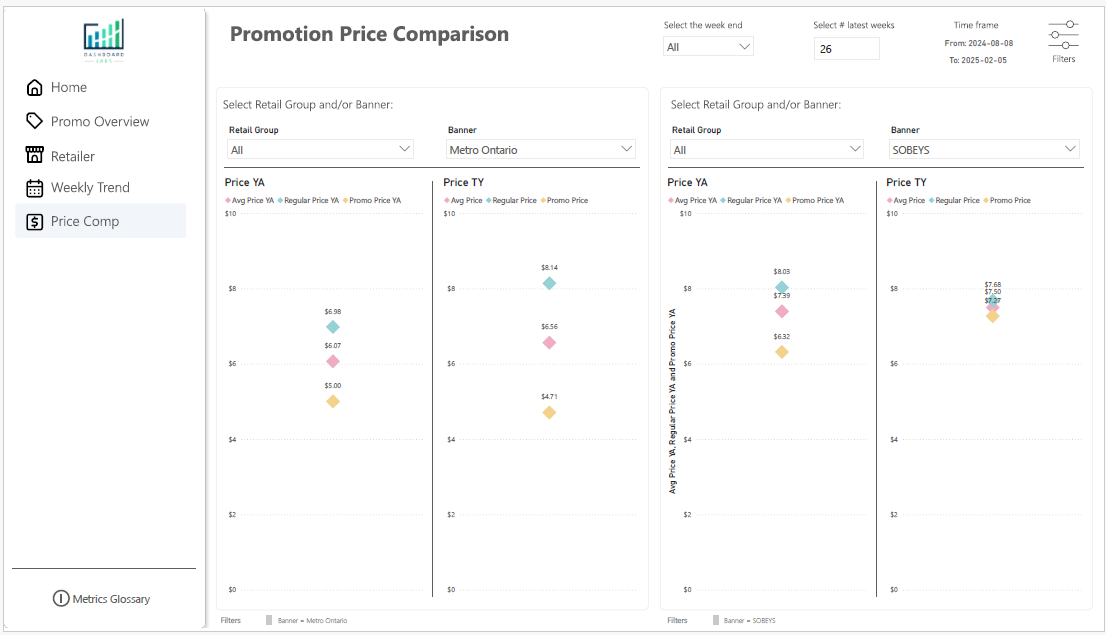

This screenshot's page, from the dashboard's own definition file:
{"tool":"powerbi","page":{"name":"Price Comp","canvas":[1920,1080],"ordinal":4},"visuals":[{"type":"slicer","fields":{"Values":["Parameter_Weeks.Parameter_Weeks"]},"box":[1401.4,37.1,175.7,58.6],"z":0},{"type":"slicer","fields":{"Values":["dCalendar.week_end_date"]},"box":[1141.4,35.7,177.1,60],"z":1000},{"type":"multiRowCard","fields":{"Values":["_Measures.From Date"]},"box":[1637.2,44.6,133.6,33.6],"z":2000},{"type":"multiRowCard","fields":{"Values":["_Measures.To Date"]},"box":[1644.9,74.4,118.4,34.2],"z":3000},{"type":"actionButton","box":[1811.2,15,75,85],"z":4000},{"type":"lineChart","title":"Price TY","fields":{"Y":["_Measures.P Dynamic Avg Price","_Measures.P Dynamic Non-promo Avg Price","_Measures.P Dynamic Promo Avg Price"]},"box":[761.7,290,350,736.7],"z":5000},{"type":"lineChart","title":"Price YA","fields":{"Y":["_Measures.P Dynamic Avg Price YA","_Measures.P Dynamic Non-promo Avg Price YA","_Measures.P Dynamic Promo Avg Price YA"]},"box":[380,290,358.3,736.7],"z":6000},{"type":"slicer","fields":{"Values":["dStores.banner"]},"box":[761.7,195,350,65],"z":7000},{"type":"slicer","fields":{"Values":["dStores.retail_group"]},"box":[380,195,345,65],"z":8000},{"type":"lineChart","title":"Price TY","fields":{"Y":["_Measures.P Dynamic Avg Price","_Measures.P Dynamic Non-promo Avg Price","_Measures.P Dynamic Promo Avg Price"]},"box":[1535,290,351.7,736.7],"z":9000},{"type":"lineChart","title":"Price YA","fields":{"Y":["_Measures.P Dynamic Avg Price YA","_Measures.P Dynamic Non-promo Avg Price YA","_Measures.P Dynamic Promo Avg Price YA"]},"box":[1153.3,290,358.3,736.7],"z":10000},{"type":"slicer","fields":{"Values":["dStores.banner"]},"box":[1535,195,351.7,65],"z":11000},{"type":"slicer","fields":{"Values":["dStores.retail_group"]},"box":[1153.3,195,358.3,65],"z":12000},{"type":"multiRowCard","fields":{"Values":["_Measures.Dump Filters"]},"box":[473.3,1051.7,650,26.7],"z":14000},{"type":"multiRowCard","fields":{"Values":["_Measures.Dump Filters"]},"box":[1251.7,1053.3,650,26.7],"z":15000},{"type":"textbox","box":[373.3,1052.4,98.6,27.1],"z":16000},{"type":"textbox","box":[1153,1052,99,27],"z":17000},{"type":"actionButton","box":[80,1006.7,178.3,40],"z":18000},{"type":"actionButton","box":[23.3,115,295,41.7],"z":19000},{"type":"actionButton","box":[21.7,173.3,296.7,40],"z":20000},{"type":"actionButton","box":[21.7,231.7,296.7,41.7],"z":21000},{"type":"actionButton","box":[23.3,288.3,295,48.3],"z":22000}]}

Visuals, with their boxes on the page's 1920x1080 design canvas (x1, y1, x2, y2). These are canvas units, not pixel positions in the 1106x635 screenshot, which may show the page scaled, cropped or inside an application window:
slicer - Parameter_Weeks.Parameter_Weeks: BBox(1401, 37, 1577, 96)
slicer - dCalendar.week_end_date: BBox(1141, 36, 1318, 96)
multiRowCard - _Measures.From Date: BBox(1637, 45, 1771, 78)
multiRowCard - _Measures.To Date: BBox(1645, 74, 1763, 109)
actionButton: BBox(1811, 15, 1886, 100)
"Price TY" lineChart: BBox(762, 290, 1112, 1027)
"Price YA" lineChart: BBox(380, 290, 738, 1027)
slicer - dStores.banner: BBox(762, 195, 1112, 260)
slicer - dStores.retail_group: BBox(380, 195, 725, 260)
"Price TY" lineChart: BBox(1535, 290, 1887, 1027)
"Price YA" lineChart: BBox(1153, 290, 1512, 1027)
slicer - dStores.banner: BBox(1535, 195, 1887, 260)
slicer - dStores.retail_group: BBox(1153, 195, 1512, 260)
multiRowCard - _Measures.Dump Filters: BBox(473, 1052, 1123, 1078)
multiRowCard - _Measures.Dump Filters: BBox(1252, 1053, 1902, 1080)
textbox: BBox(373, 1052, 472, 1080)
textbox: BBox(1153, 1052, 1252, 1079)
actionButton: BBox(80, 1007, 258, 1047)
actionButton: BBox(23, 115, 318, 157)
actionButton: BBox(22, 173, 318, 213)
actionButton: BBox(22, 232, 318, 273)
actionButton: BBox(23, 288, 318, 337)
